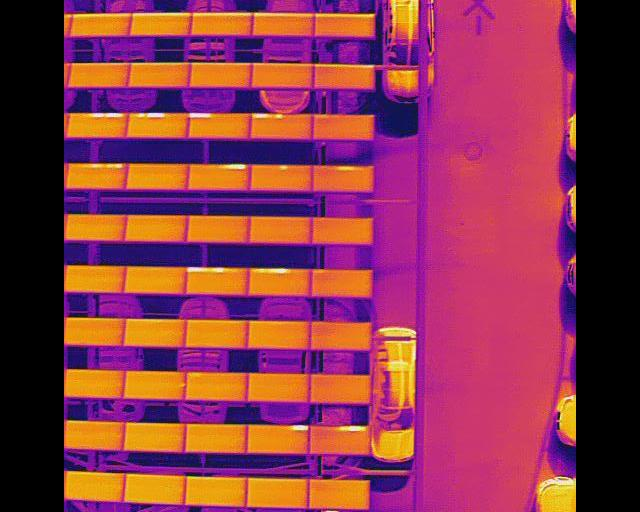Cell: (250, 164, 313, 189)
No-Anomaly: (185, 475, 247, 505), (64, 470, 126, 500), (309, 478, 370, 508), (125, 473, 186, 503), (246, 478, 309, 507), (311, 373, 373, 402), (124, 421, 186, 450), (64, 420, 124, 449), (248, 319, 310, 347), (310, 320, 372, 348), (312, 215, 374, 243), (186, 423, 247, 451), (64, 368, 125, 396), (64, 316, 125, 344), (125, 370, 186, 398), (185, 319, 248, 346), (248, 372, 311, 399), (311, 268, 374, 295), (124, 265, 187, 292), (186, 372, 248, 399), (250, 215, 312, 242), (64, 264, 126, 291), (124, 317, 185, 344), (64, 214, 126, 240), (126, 214, 188, 240), (188, 215, 249, 241), (126, 162, 189, 187), (313, 114, 375, 139), (68, 11, 132, 35), (314, 12, 375, 37), (67, 62, 130, 86), (128, 62, 191, 86), (188, 62, 253, 85), (253, 12, 315, 36), (313, 63, 375, 87), (191, 11, 253, 34), (251, 62, 313, 85), (130, 11, 192, 34)
Unclassified: (247, 423, 309, 452), (309, 424, 371, 452), (186, 266, 249, 293), (189, 161, 251, 188), (249, 267, 311, 294), (252, 112, 313, 139), (313, 164, 374, 191), (66, 111, 129, 137), (126, 111, 189, 137), (190, 111, 252, 137), (65, 161, 129, 186)
